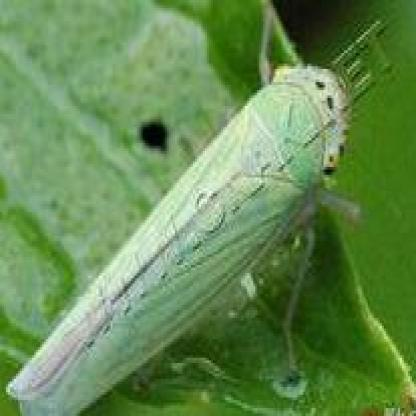Green-Leafhopper: (0, 60, 355, 416)
